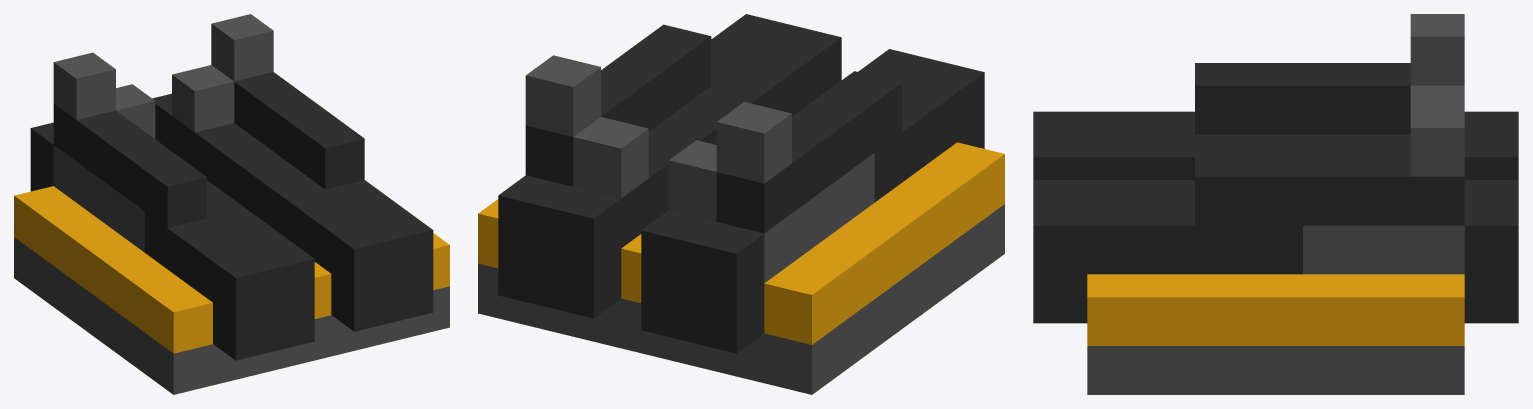
Rendered from WeaponTargetting#3.obj.
3 renders of one model, left to right at view 1: azimuth 30°, elevation 25°; view 2: azimuth 150°, elevation 25°; view 3: azimuth 270°, elevation 25°, orthographic. The views are drawn at different scales.
Bounding box in the file's own units: 0.7 × 0.6 × 0.9.
Materials: 1 (1 with a texture image).
